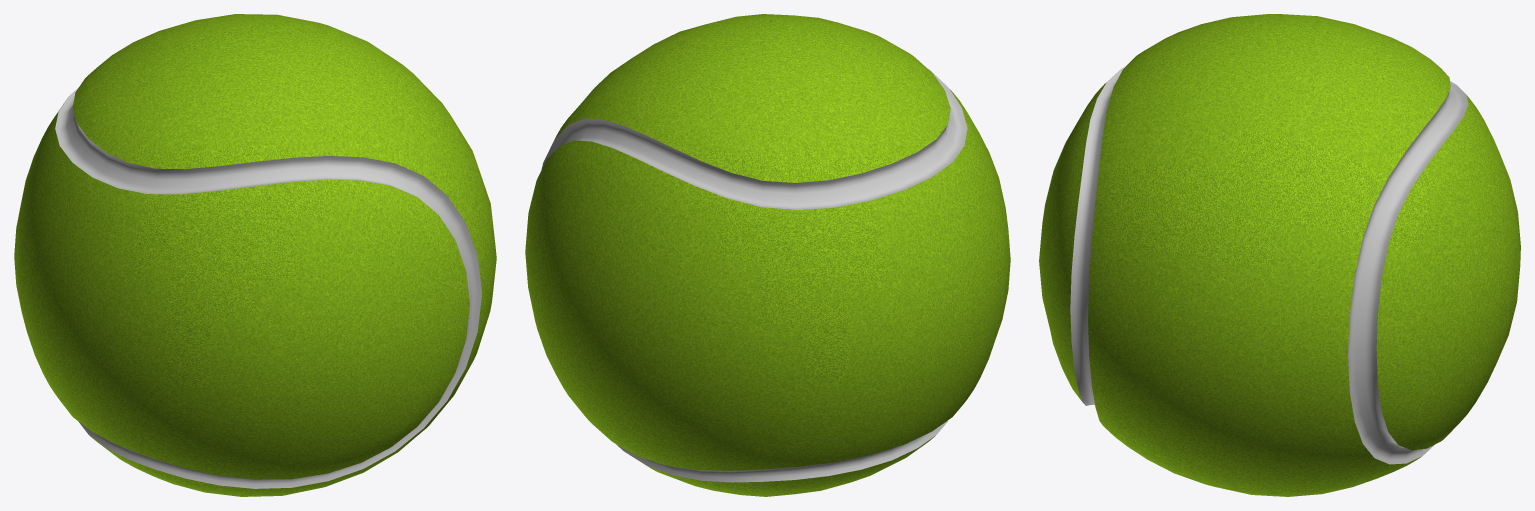
Rendered from Tennis Ball.fbx.
The picture shows the model from 3 angles, left to right: view 1: azimuth 30°, elevation 25°; view 2: azimuth 150°, elevation 25°; view 3: azimuth 270°, elevation 25°; orthographic projection.
Visible parts, largest first — view 1: Tennis Ball; view 2: Tennis Ball; view 3: Tennis Ball.
Part boxes in pixels (box(x1,y1,x2,y2)): Tennis Ball: box(14, 14, 496, 496); Tennis Ball: box(525, 14, 1010, 496); Tennis Ball: box(1039, 14, 1520, 496).
Size of the model in its own units: 5.96 by 5.94 by 5.93.
2 materials, 1 textured.
